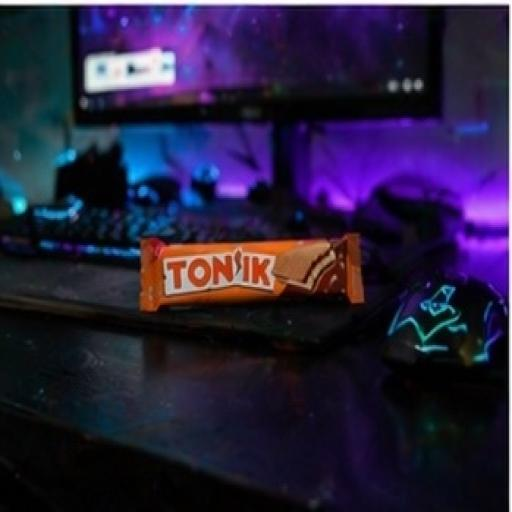tonik: (90, 152, 403, 364)
